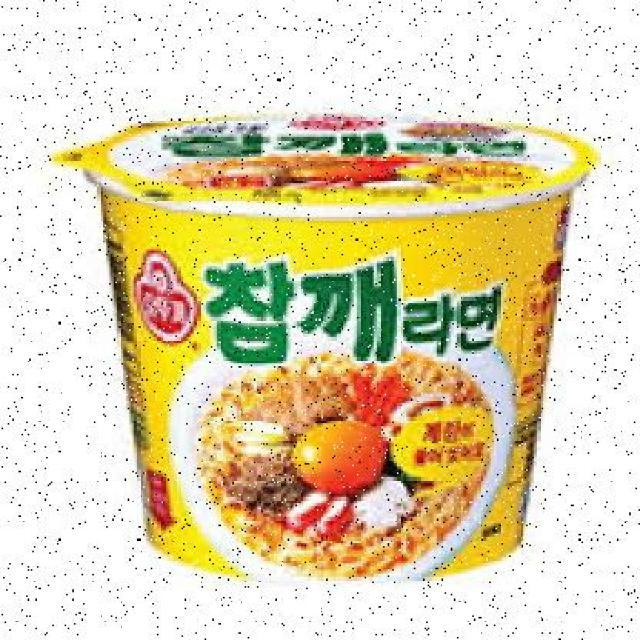Miscellaneous: (75, 106, 603, 588)
